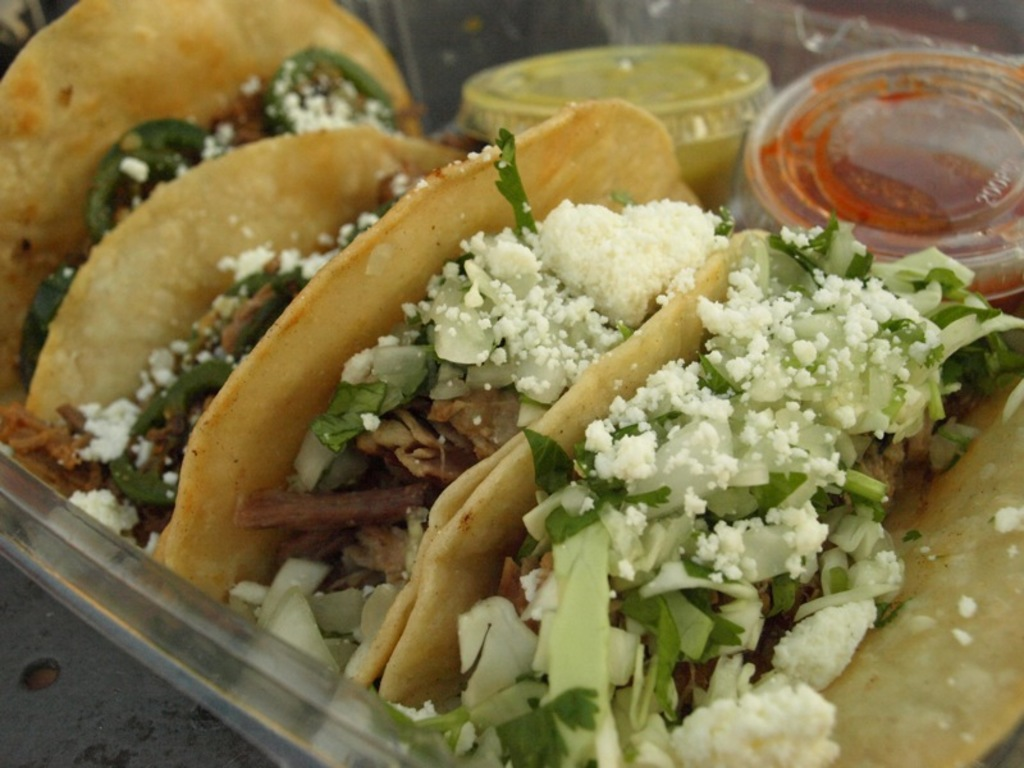taco: (133, 90, 764, 719), (392, 227, 1010, 754), (0, 0, 474, 468)
